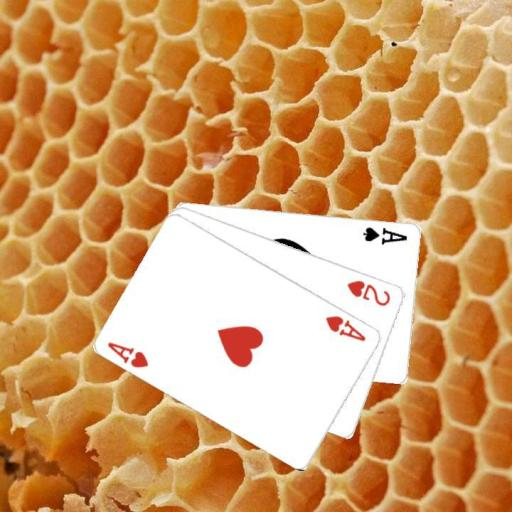2H: (344, 277, 393, 308)
AH: (105, 338, 151, 370), (322, 312, 368, 343)
AS: (361, 223, 410, 246)
